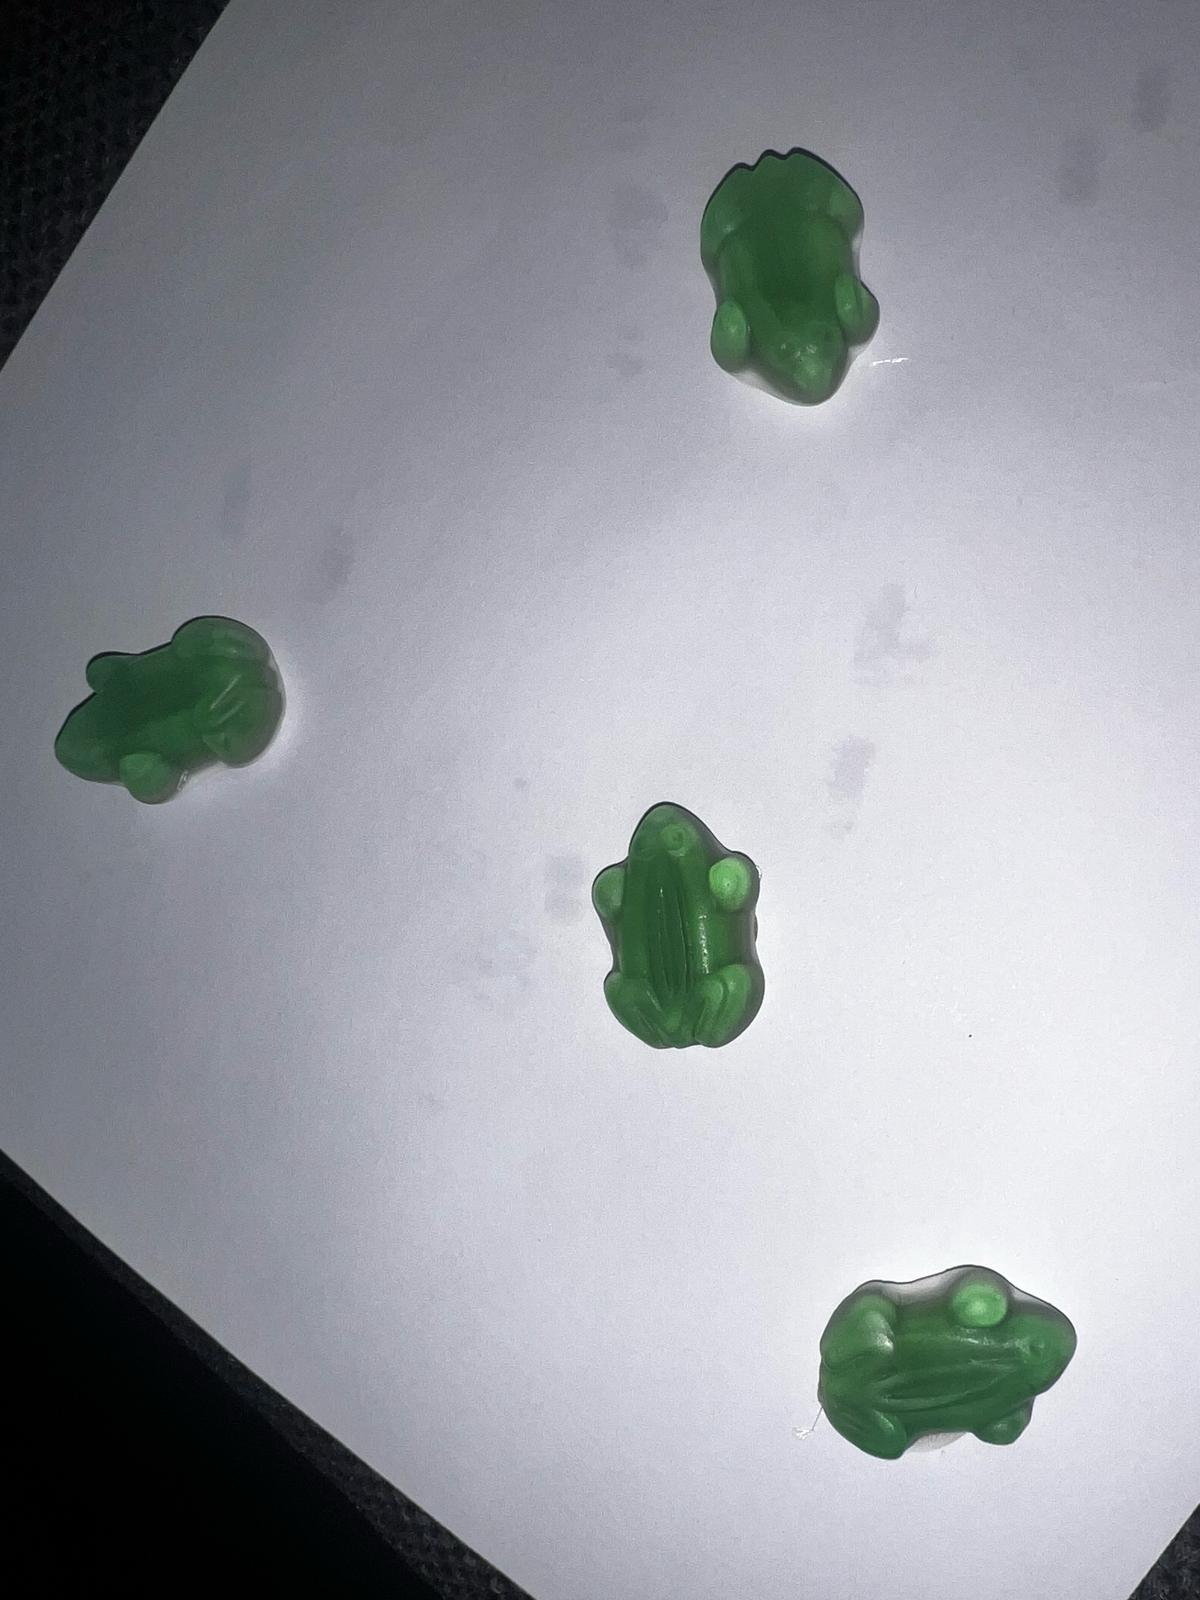frog: (808, 1260, 1087, 1468), (695, 141, 886, 407), (43, 611, 296, 811), (586, 794, 774, 1053)
